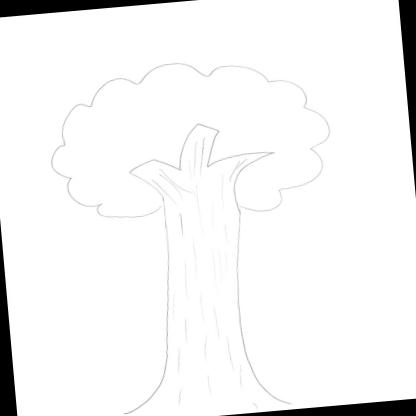branch_cut: (40, 43, 340, 232), (124, 116, 278, 198)
crown_cloud: (41, 47, 338, 232)
crown_dizzy: (148, 234, 262, 372)
